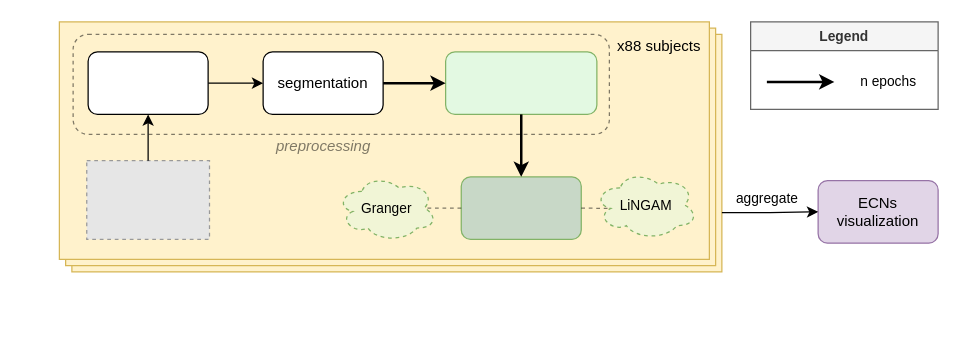
The diagram is 969 pixels wide and 338 high, and some of its shapes have lost their labels. Grey dashed boxes stand in for pictures. The shapes that lost their labels are listed below. From the top down, each one's centre as x and y in pixels, then its label:
At pixel 147 82: "resampling".
At pixel 520 82: "stationarity check".
At pixel 520 207: "causal analysis (ECNs)".
